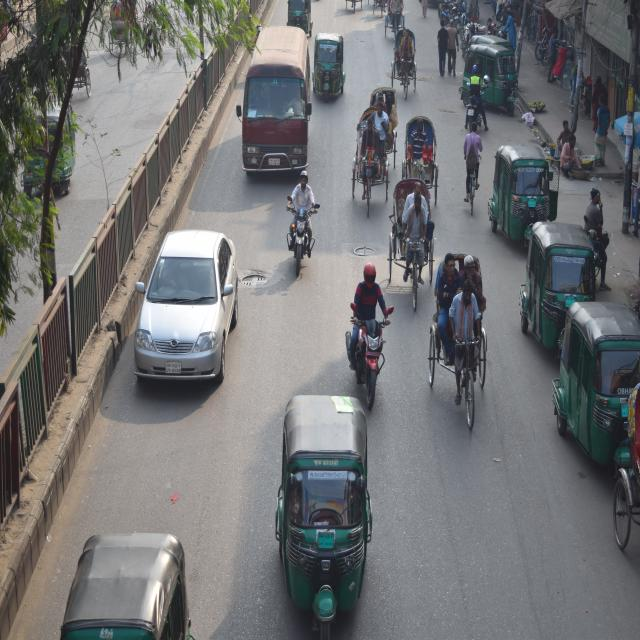car: (130, 224, 242, 400)
microbus: (236, 26, 314, 186)
motorbike: (341, 298, 398, 404), (282, 178, 316, 279), (580, 213, 612, 279), (463, 68, 488, 142), (438, 0, 469, 29)
